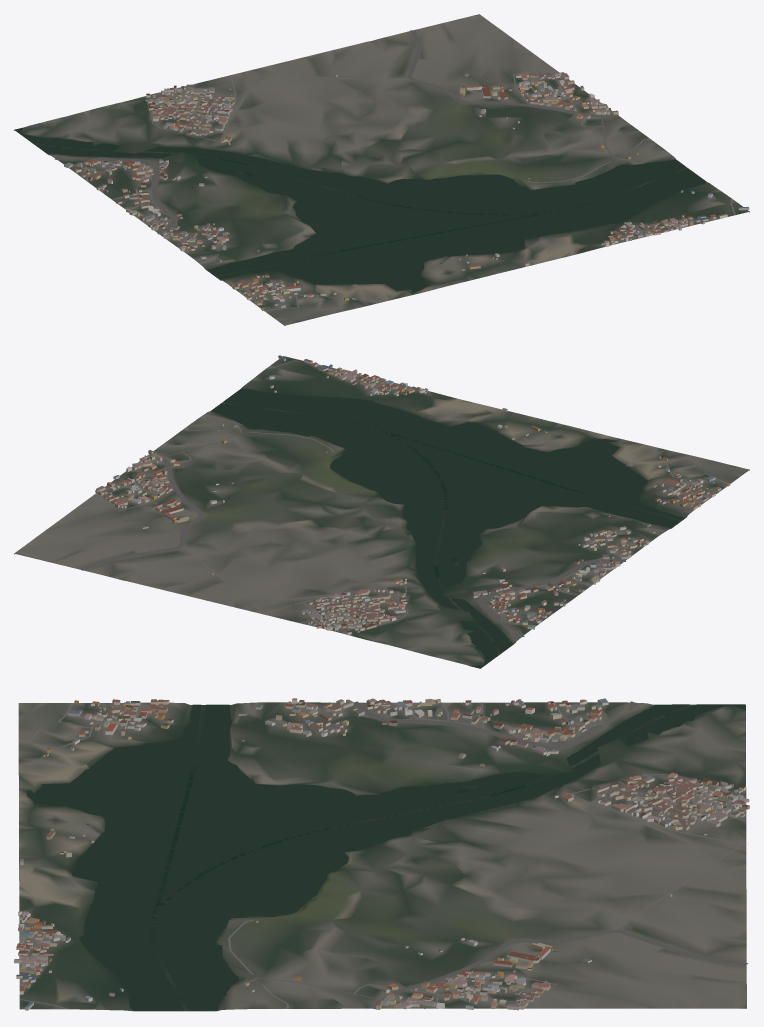
3 renders of one model, top to bottom at view 1: azimuth 30°, elevation 25°; view 2: azimuth 150°, elevation 25°; view 3: azimuth 270°, elevation 25°, orthographic. The views are drawn at different scales.
Visible parts, largest first — view 1: ground, water, buildings, roads; view 2: ground, water, buildings, roads; view 3: ground, water, buildings, roads.
Boxes of the visible parts, x1,y1,x2,y2 form: ground: (14, 14, 749, 325); water: (15, 127, 706, 292); buildings: (64, 72, 749, 310); roads: (54, 30, 735, 311); ground: (14, 356, 749, 668); water: (211, 388, 684, 668); buildings: (95, 355, 730, 634); roads: (79, 359, 727, 637); ground: (18, 702, 746, 1011); water: (26, 704, 745, 1010); buildings: (14, 698, 749, 1010); roads: (18, 701, 747, 1009).
Bounding box in the file's own units: 1411 × 18.53 × 1419.
